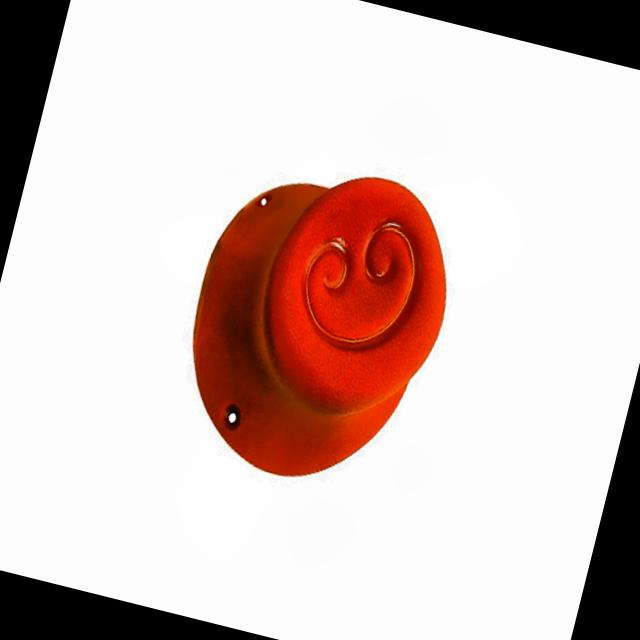Hold: (162, 135, 476, 506)
